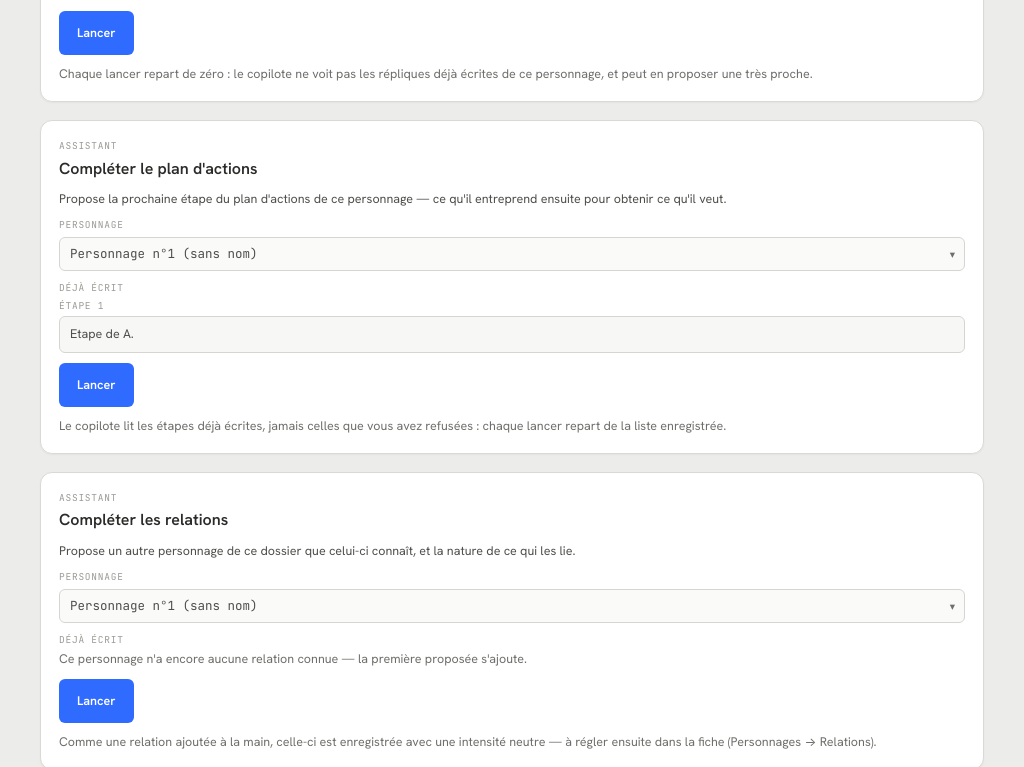
Test: planActions - changer de personnage abandonne proposition et gel (precedent BUG-108) › la proposition disparait, le Select nomme la nouvelle cible, Lancer redevient actif
(page scrolled)
Click the button "Lancer" below "Etape de A." at (96, 385), box [59,363,134,407]
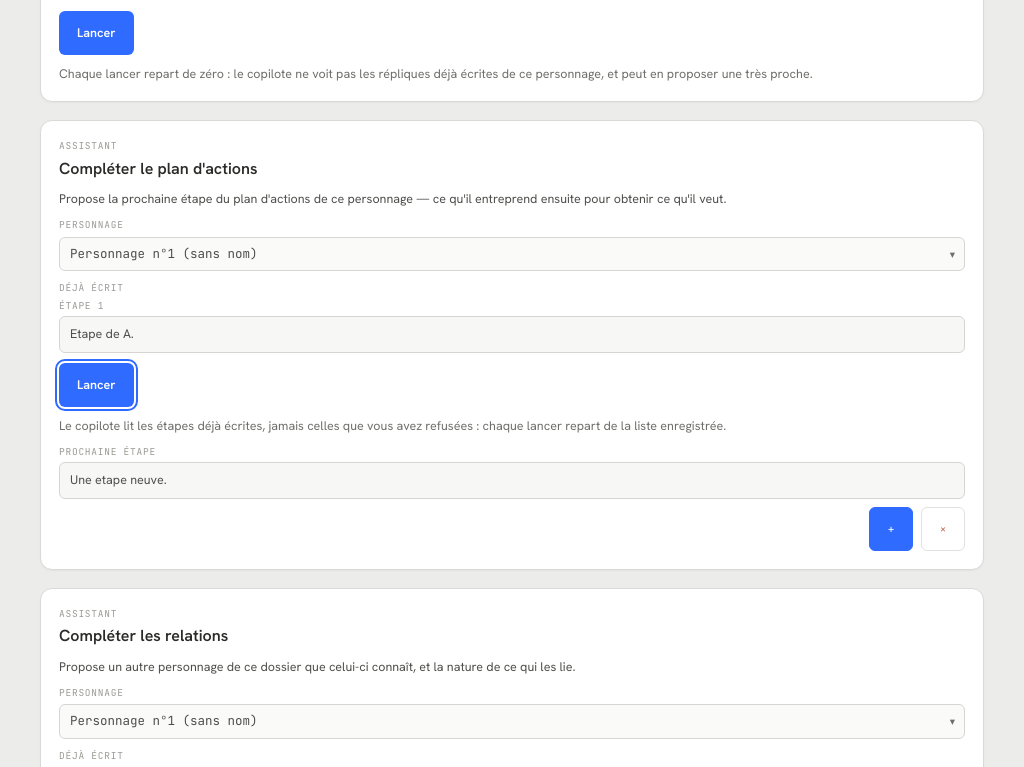
Expected: the button named "Accepter la proposition" is shown, [869,507,913,551]
Select "Personnage n°2 (sans nom)" in the dropdown labelled "PERSONNAGE ▾" below "Compléter le plan d'actions" at (512, 254), box [59,237,965,271]
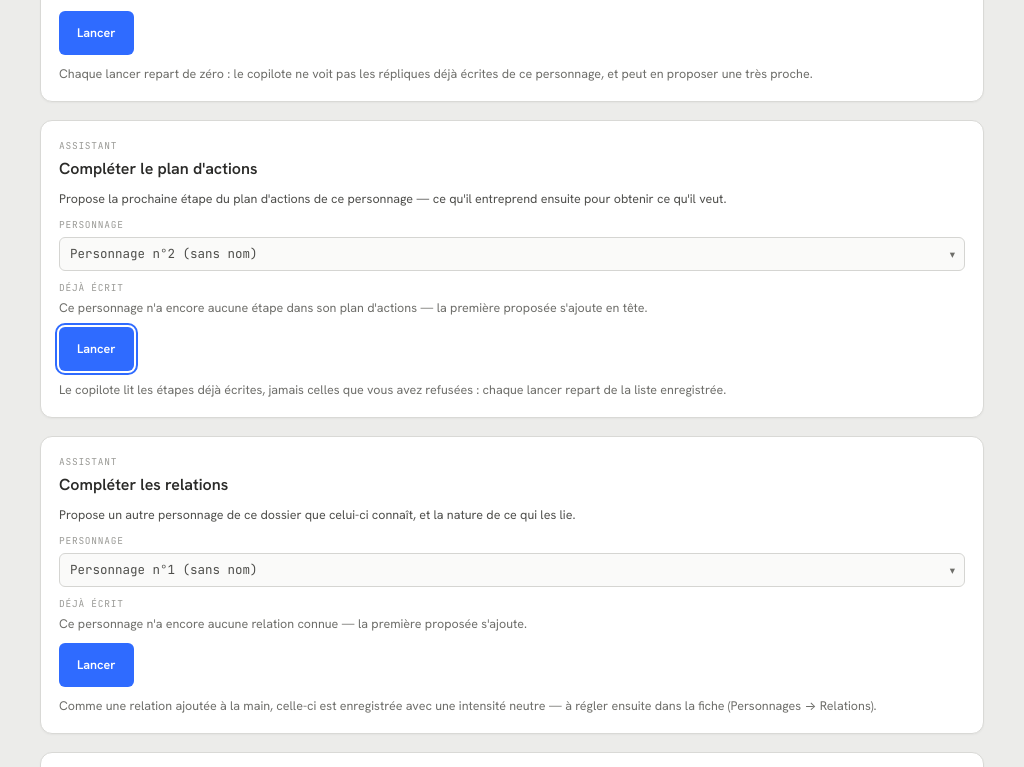
Expected: the button "Lancer" below "Compléter le plan d'actions" is enabled, [59,327,134,371]
Expected: the text "Ce personnage n'a encore aucune étape dans son plan d'actions — la première proposée s'ajoute en tête." is shown, [59,299,648,316]
